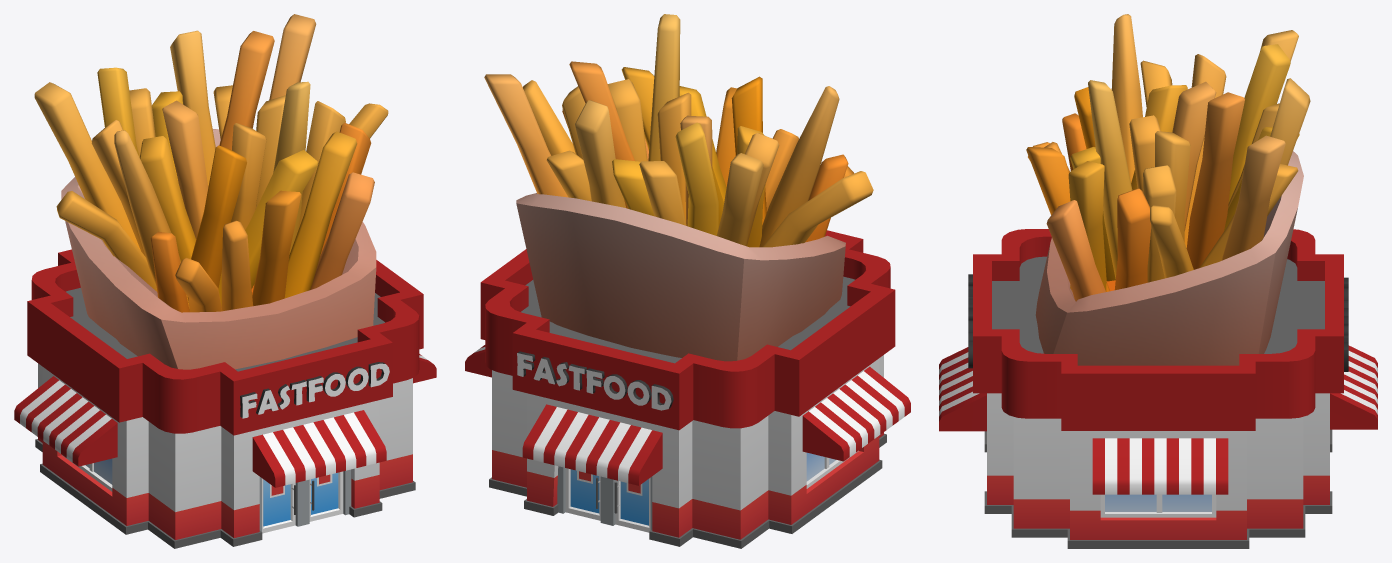
File: fastfood_001.glb
The picture shows the model from 3 angles, left to right: view 1: azimuth 30°, elevation 25°; view 2: azimuth 150°, elevation 25°; view 3: azimuth 270°, elevation 25°; orthographic projection. The views are drawn at different scales.
Parts seen in each view (by area): view 1: fastfood_001; view 2: fastfood_001; view 3: fastfood_001.
Part boxes in pixels (x1,y1,x2,y2): fastfood_001: [14, 14, 436, 548]; fastfood_001: [465, 14, 910, 548]; fastfood_001: [939, 14, 1377, 548].
Size of the model in its own units: 12.11 by 12.72 by 12.11.
Materials: 2 (2 with a texture image).
